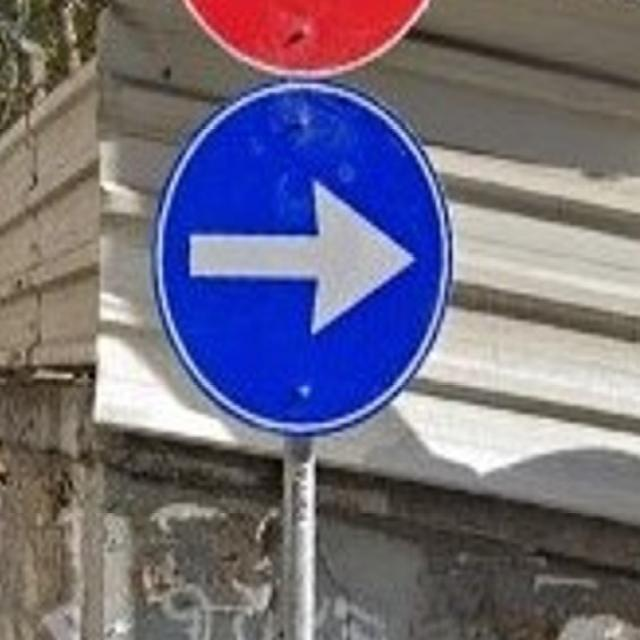Turn Right: (159, 82, 447, 432)
